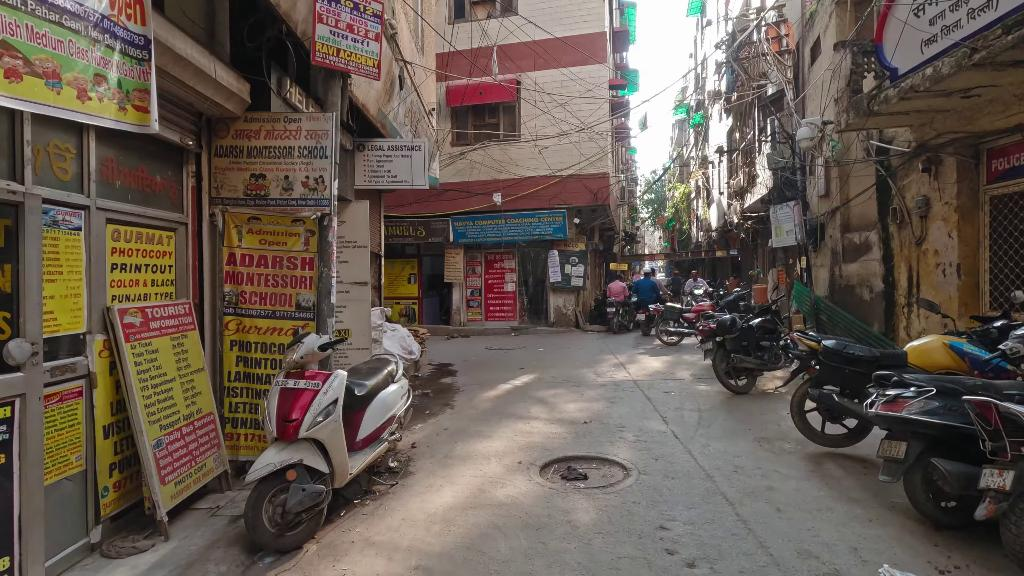garbage: (879, 559, 916, 576)
